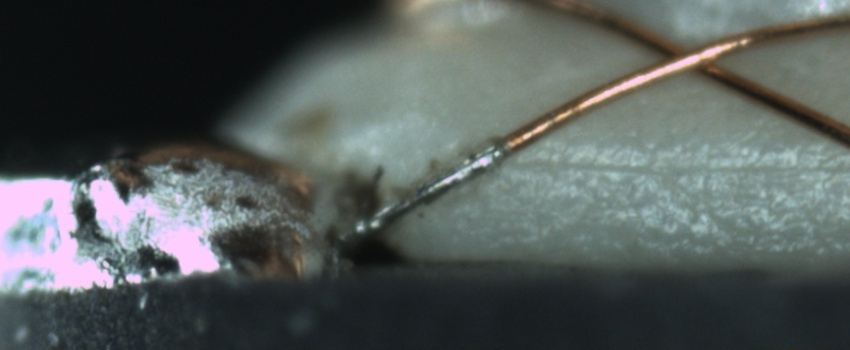CL: (633, 25, 734, 86)
DL: (508, 131, 849, 193)
TS: (336, 137, 511, 244)
TTCW: (344, 123, 529, 248)
